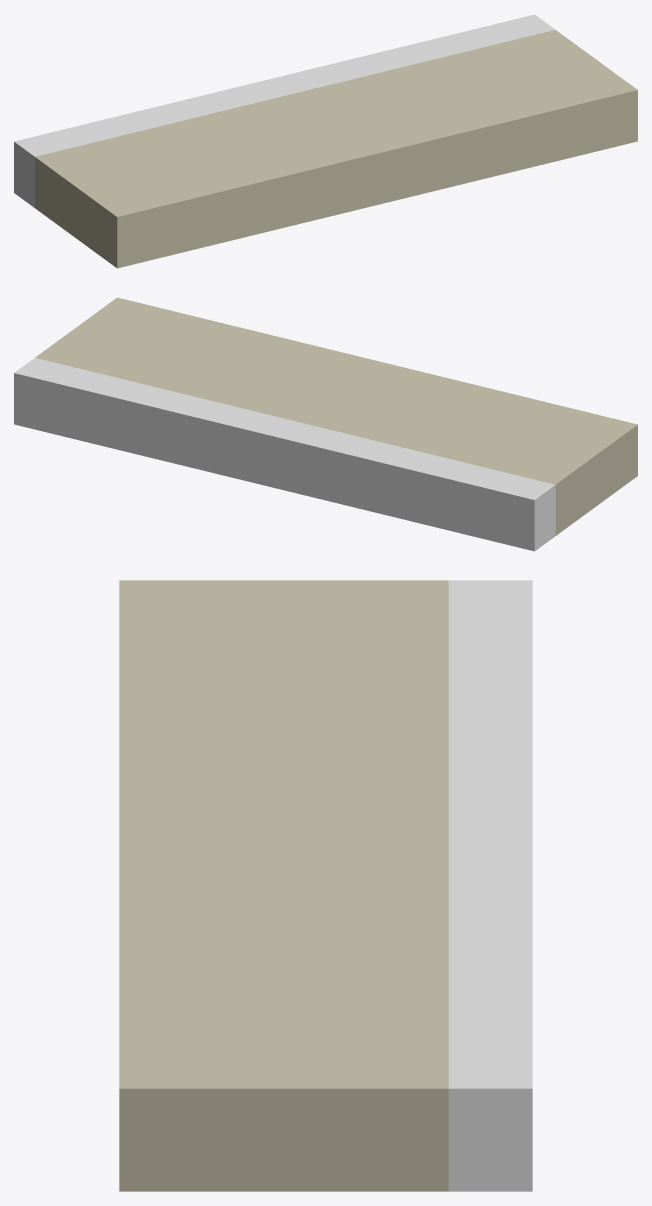
The model's file is Map3Floor.fbx.
3 renders of one model, top to bottom at view 1: azimuth 30°, elevation 25°; view 2: azimuth 150°, elevation 25°; view 3: azimuth 270°, elevation 25°, orthographic. The views are drawn at different scales.
Visible parts, largest first — view 1: Plane; view 2: Plane; view 3: Plane.
Boxes of the visible parts, x1,y1,x2,y2 form: Plane: (14, 14, 637, 268); Plane: (14, 297, 637, 551); Plane: (119, 580, 532, 1191).
Bounding box in the file's own units: 3989 × 376 × 1370.
